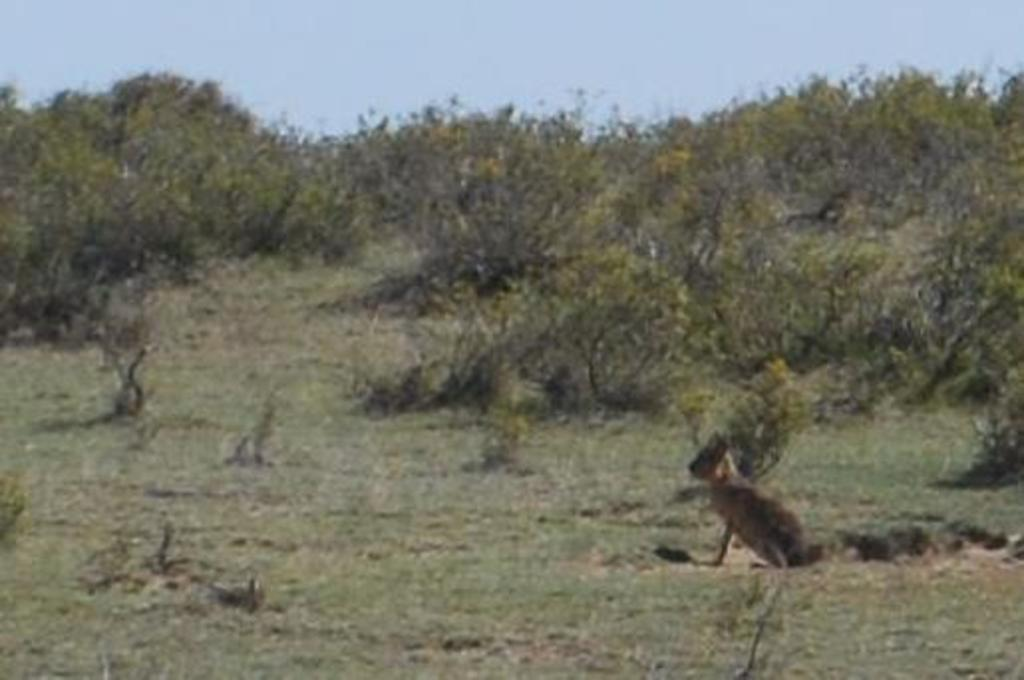kangaroo: (690, 432, 827, 580)
